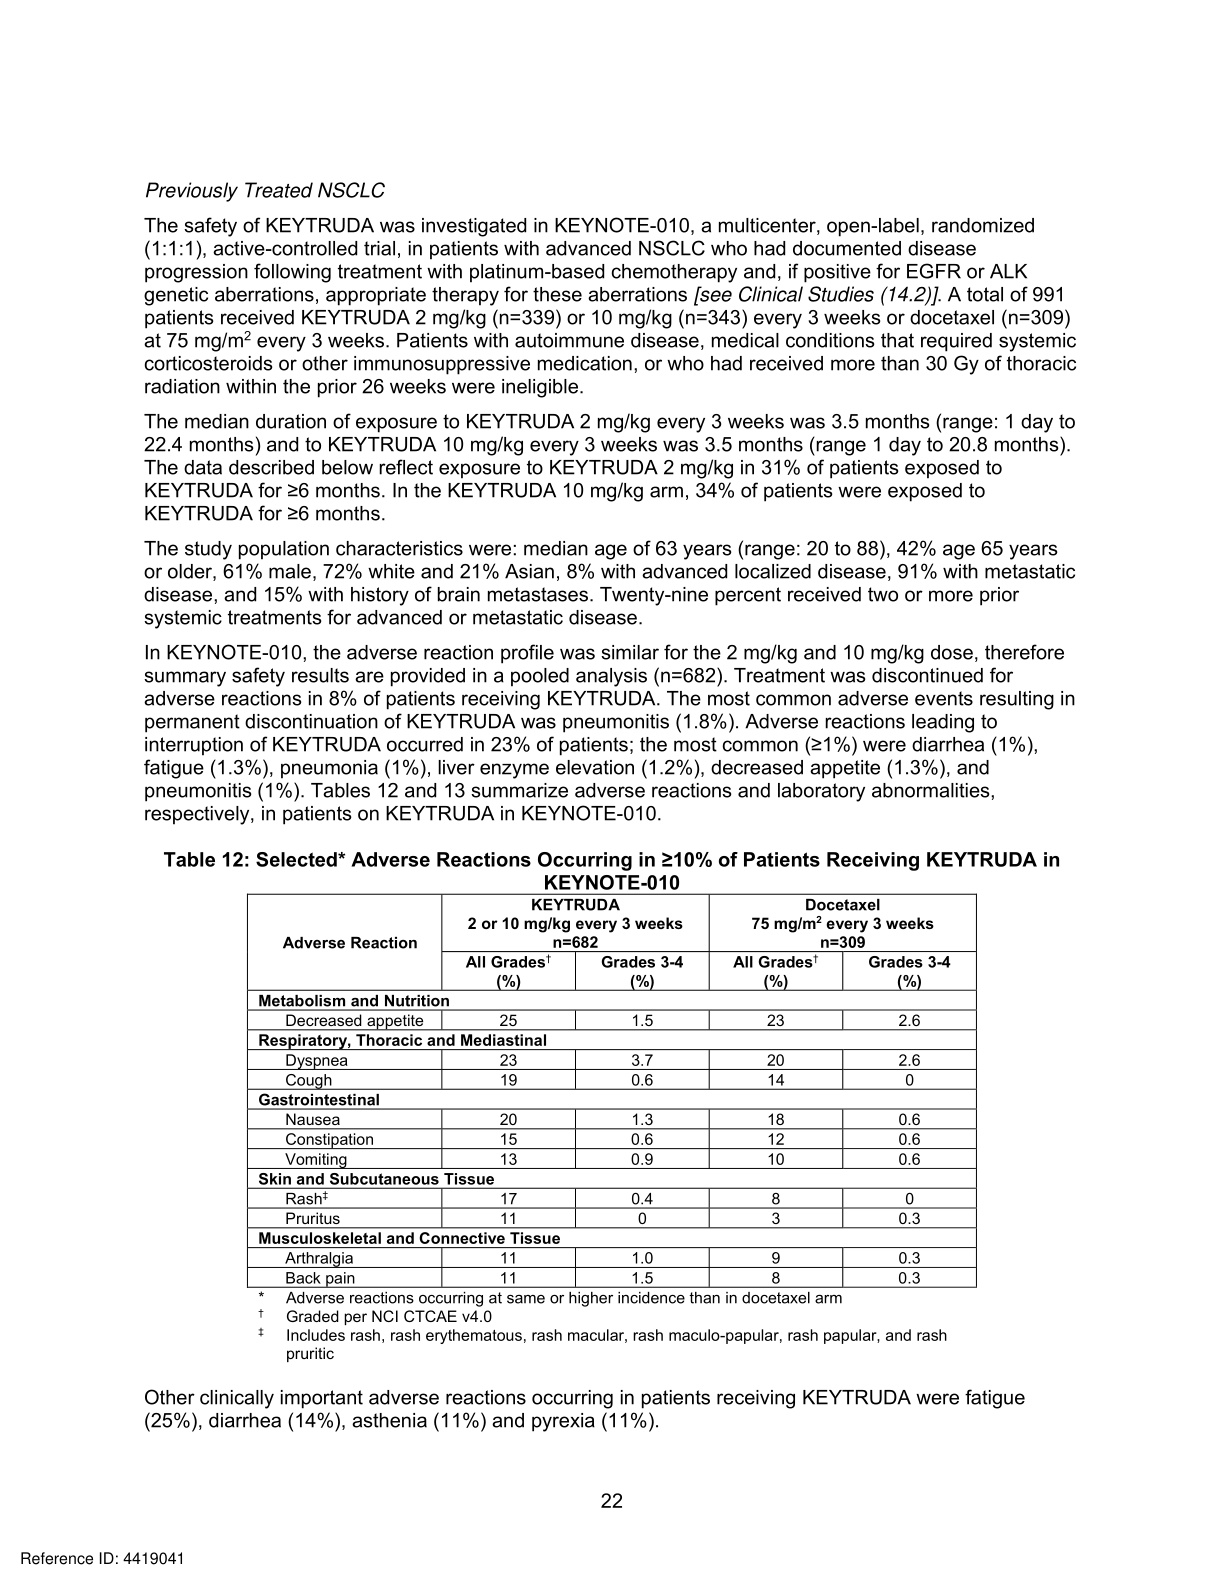merged_cells: (246, 892, 977, 1288)
